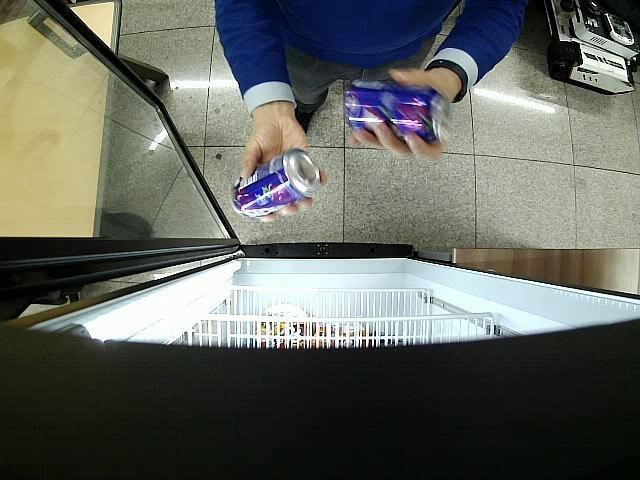14_welchsGrape: (344, 79, 452, 142), (230, 149, 320, 218)
